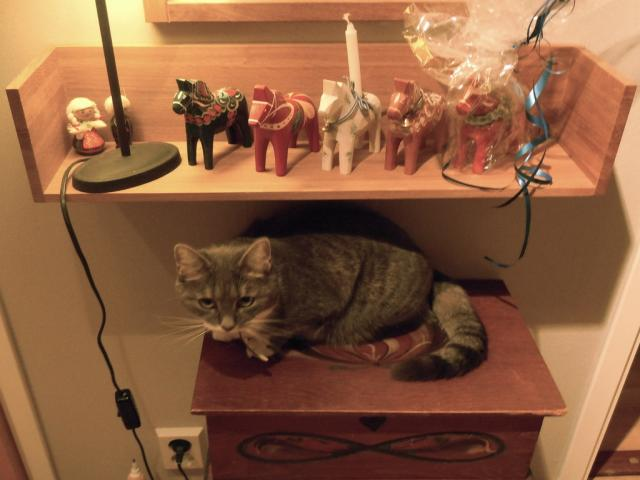Cat: (147, 204, 488, 380)
